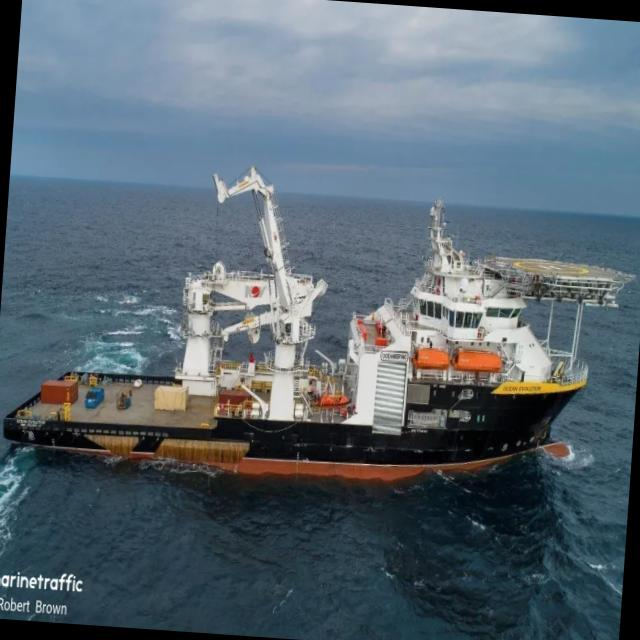Offshore: (2, 167, 630, 480)
